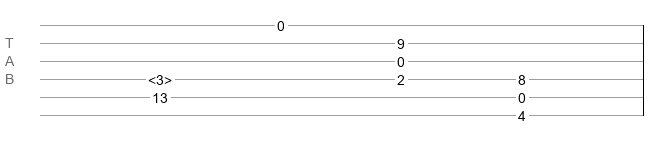0: (277, 18, 285, 28), (397, 54, 405, 64), (518, 90, 526, 100)
13: (152, 90, 168, 100)
2: (397, 72, 405, 82)
4: (518, 108, 526, 118)
8: (518, 72, 526, 82)
9: (397, 36, 405, 46)
harmonic: (148, 72, 172, 82)
